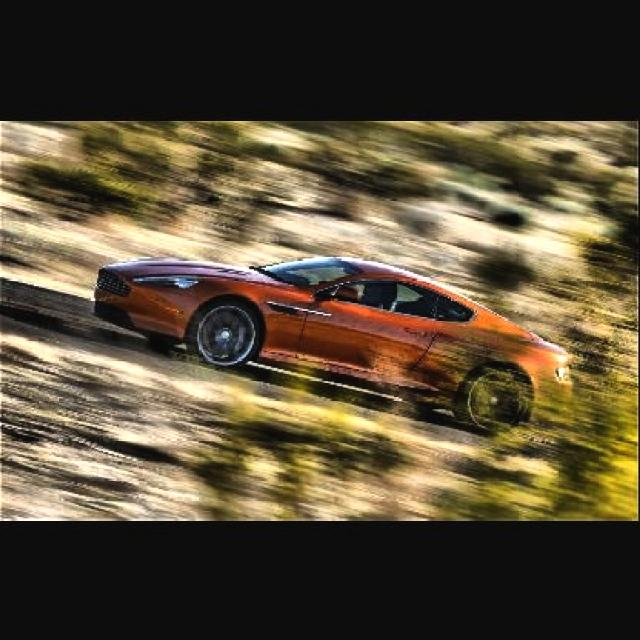red: (91, 245, 577, 418)
